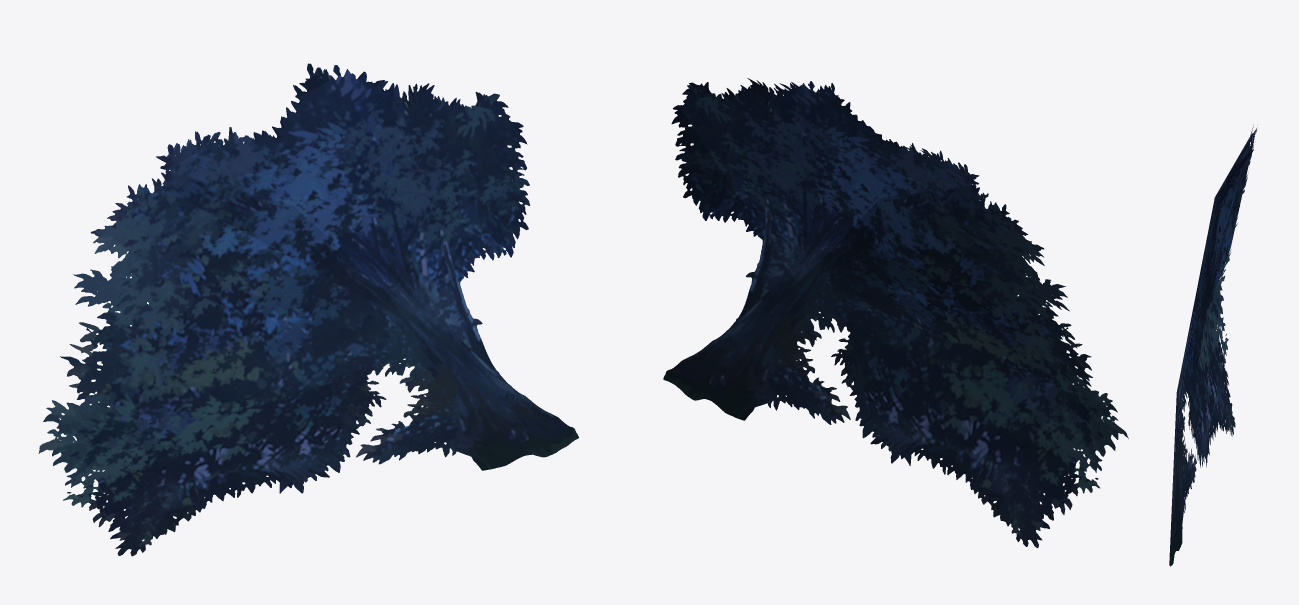
The model's file is HuBian_NightTree04_FBX.FBX.
3 renders of one model, left to right at view 1: azimuth 30°, elevation 25°; view 2: azimuth 150°, elevation 25°; view 3: azimuth 270°, elevation 25°, orthographic. The views are drawn at different scales.
Visible parts, largest first — view 1: HuBian_NightTree04_FBX; view 2: HuBian_NightTree04_FBX; view 3: HuBian_NightTree04_FBX.
Part boxes in pixels (<box>): HuBian_NightTree04_FBX: <box>38,63,578,556</box>; HuBian_NightTree04_FBX: <box>663,78,1128,547</box>; HuBian_NightTree04_FBX: <box>1169,125,1257,566</box>.
Size of the model in its own units: 10.52 by 8.81 by 2.3.
